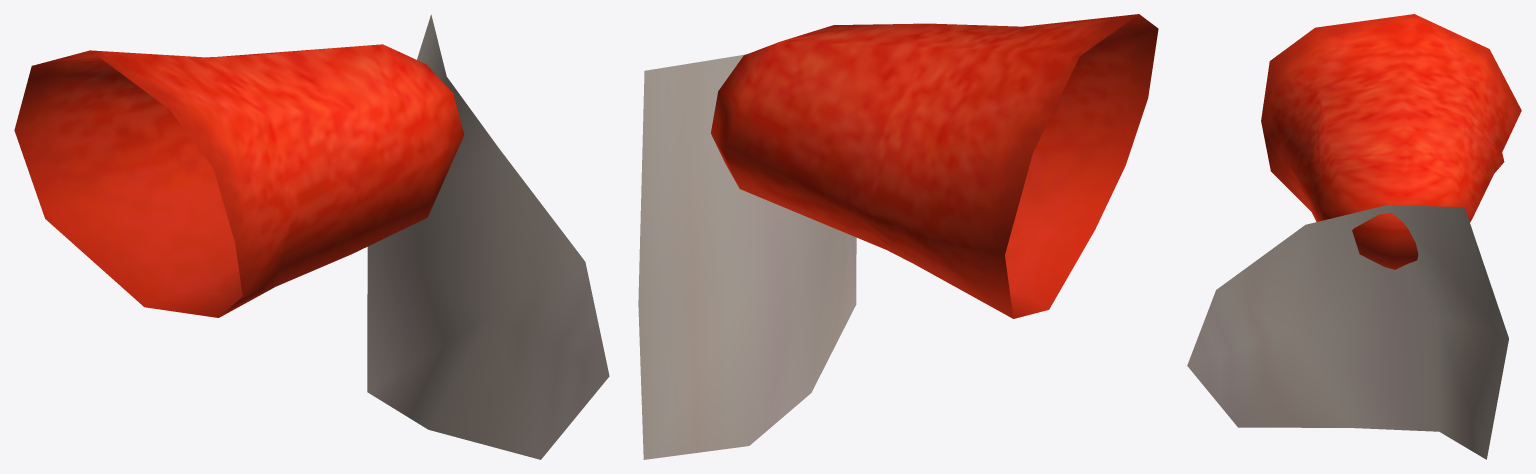
File: kingdedede_brazo_der.obj
3 views of the same model, side by side, from view 1: azimuth 30°, elevation 25°; view 2: azimuth 150°, elevation 25°; view 3: azimuth 270°, elevation 25° (orthographic). The views are drawn at different scales.
Bounding box in the file's own units: 0.9291 × 1 × 0.9594.
